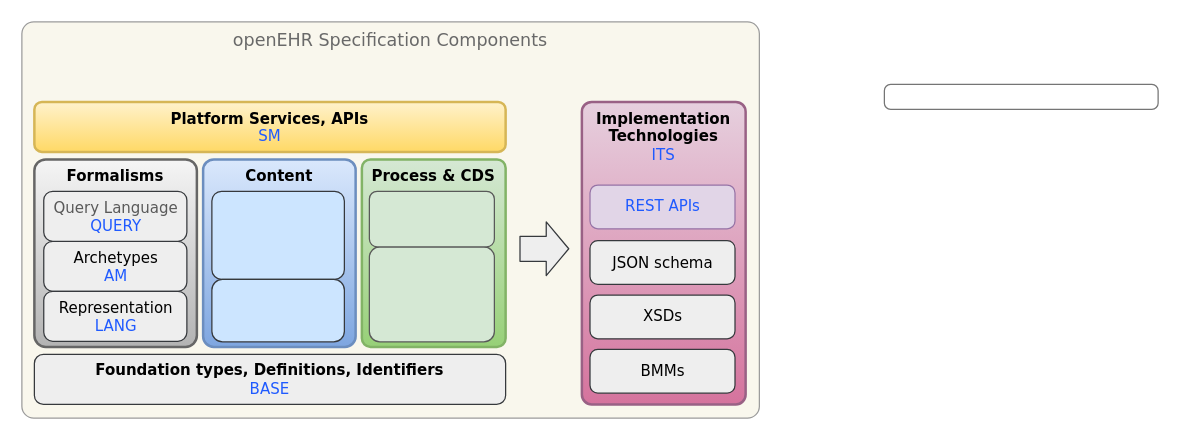
The diagram is 1180 pixels wide and 440 high, and some of its shapes have lost their labels. Here are the shapes that lost their labels. From the top down, the centre of each, then its label:
At (1020,96): "Conformance ( CNF )".
At (277,234): "Reference Model RM".
At (431,218): "Guidelines CDS".
At (277,310): "openEHR Terminology TERM".
At (431,294): "Task Planning PROC".
